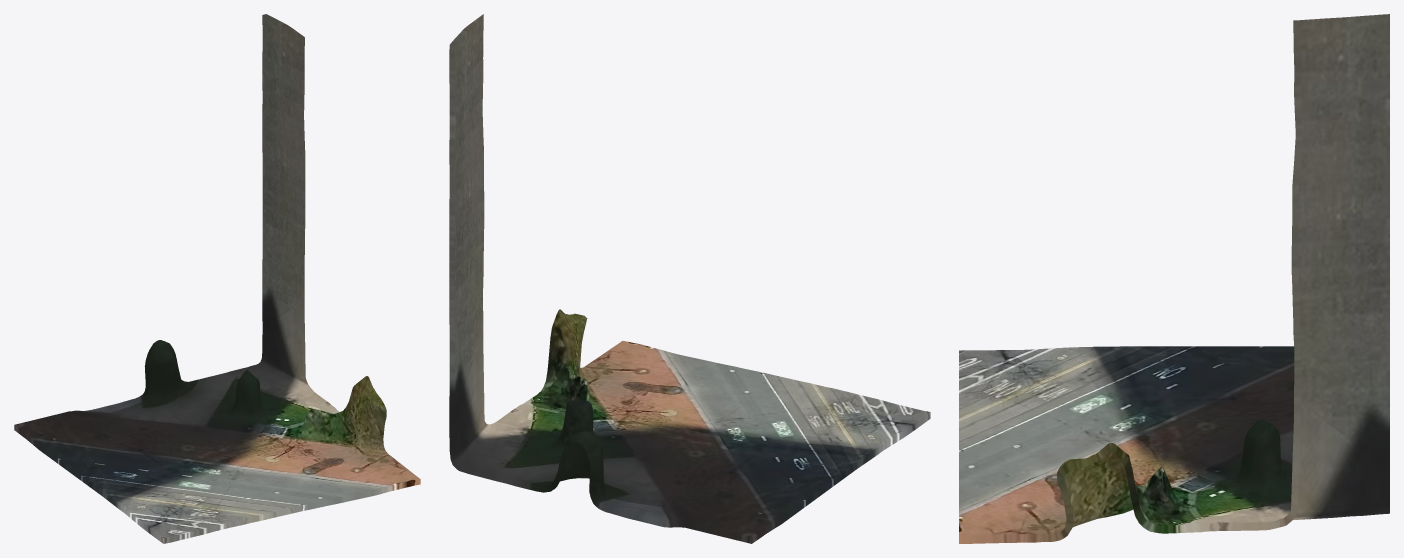
File: z20-167772-405238-h0-yup-uvflip-v3-world.glb
3 renders of one model, left to right at view 1: azimuth 30°, elevation 25°; view 2: azimuth 150°, elevation 25°; view 3: azimuth 270°, elevation 25°, orthographic. The views are drawn at different scales.
Bounding box in the file's own units: 30.16 × 40.64 × 30.32.
Materials: 1 (1 with a texture image).
